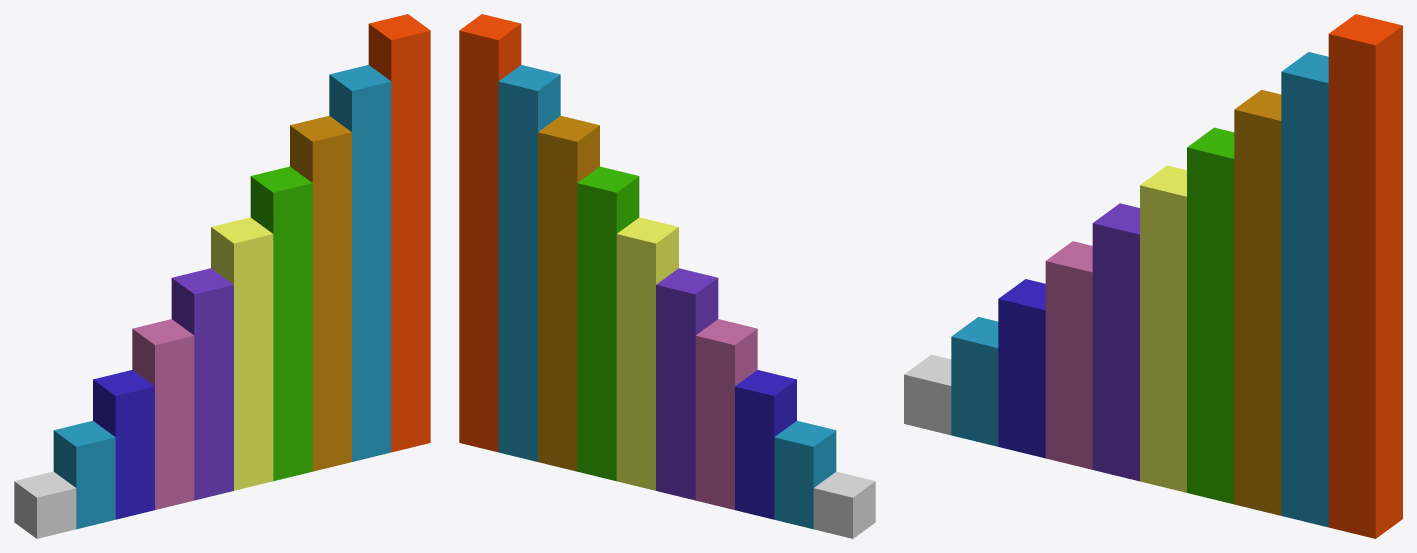
The picture shows the model from 3 angles, left to right: view 1: azimuth 30°, elevation 25°; view 2: azimuth 150°, elevation 25°; view 3: azimuth 330°, elevation 25°; orthographic projection. The views are drawn at different scales.
Parts seen in each view (by area): view 1: Null_9, Null_8, Null_7, Null_6, Null_5, Null_4, Null_3, Null_2, Null_1, Null; view 2: Null_9, Null_8, Null_7, Null_6, Null_5, Null_4, Null_3, Null_2, Null_1, Null; view 3: Null_9, Null_8, Null_7, Null_6, Null_5, Null_4, Null_3, Null_2, Null_1, Null.
Part boxes in pixels (left/top/right/bottom): Null_9: left=368, top=14, right=430, bottom=452; Null_8: left=329, top=65, right=391, bottom=461; Null_7: left=290, top=115, right=351, bottom=471; Null_6: left=250, top=166, right=312, bottom=481; Null_5: left=211, top=217, right=273, bottom=490; Null_4: left=171, top=268, right=233, bottom=500; Null_3: left=132, top=319, right=194, bottom=509; Null_2: left=93, top=370, right=154, bottom=519; Null_1: left=53, top=420, right=115, bottom=529; Null: left=14, top=471, right=76, bottom=538; Null_9: left=459, top=14, right=521, bottom=452; Null_8: left=498, top=65, right=560, bottom=461; Null_7: left=538, top=115, right=599, bottom=471; Null_6: left=577, top=166, right=639, bottom=481; Null_5: left=616, top=217, right=678, bottom=490; Null_4: left=656, top=268, right=718, bottom=500; Null_3: left=695, top=319, right=757, bottom=509; Null_2: left=735, top=370, right=796, bottom=519; Null_1: left=774, top=420, right=836, bottom=529; Null: left=813, top=471, right=875, bottom=538; Null_9: left=1328, top=14, right=1402, bottom=538; Null_8: left=1281, top=52, right=1328, bottom=527; Null_7: left=1234, top=89, right=1281, bottom=515; Null_6: left=1187, top=127, right=1234, bottom=504; Null_5: left=1140, top=165, right=1186, bottom=492; Null_4: left=1092, top=203, right=1139, bottom=481; Null_3: left=1045, top=241, right=1092, bottom=469; Null_2: left=998, top=279, right=1045, bottom=458; Null_1: left=951, top=317, right=998, bottom=446; Null: left=904, top=354, right=951, bottom=435.
Bounding box in the file's own units: 1000 × 1000 × 100.
